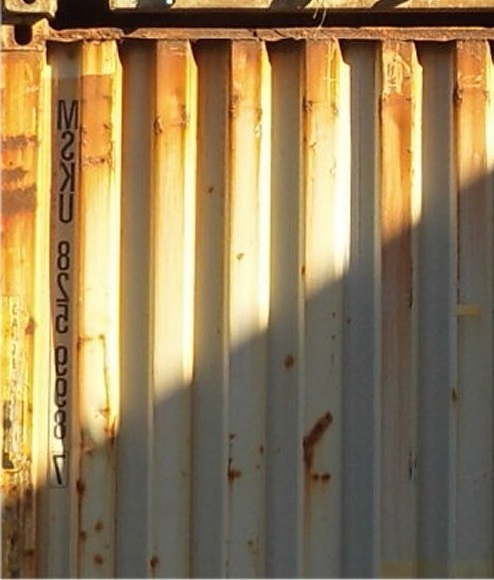container_no_door: (1, 26, 492, 577)
